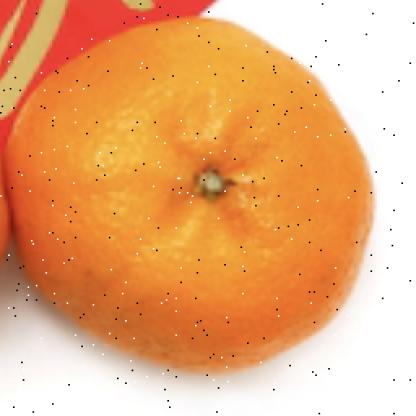orange: (3, 11, 373, 377)
